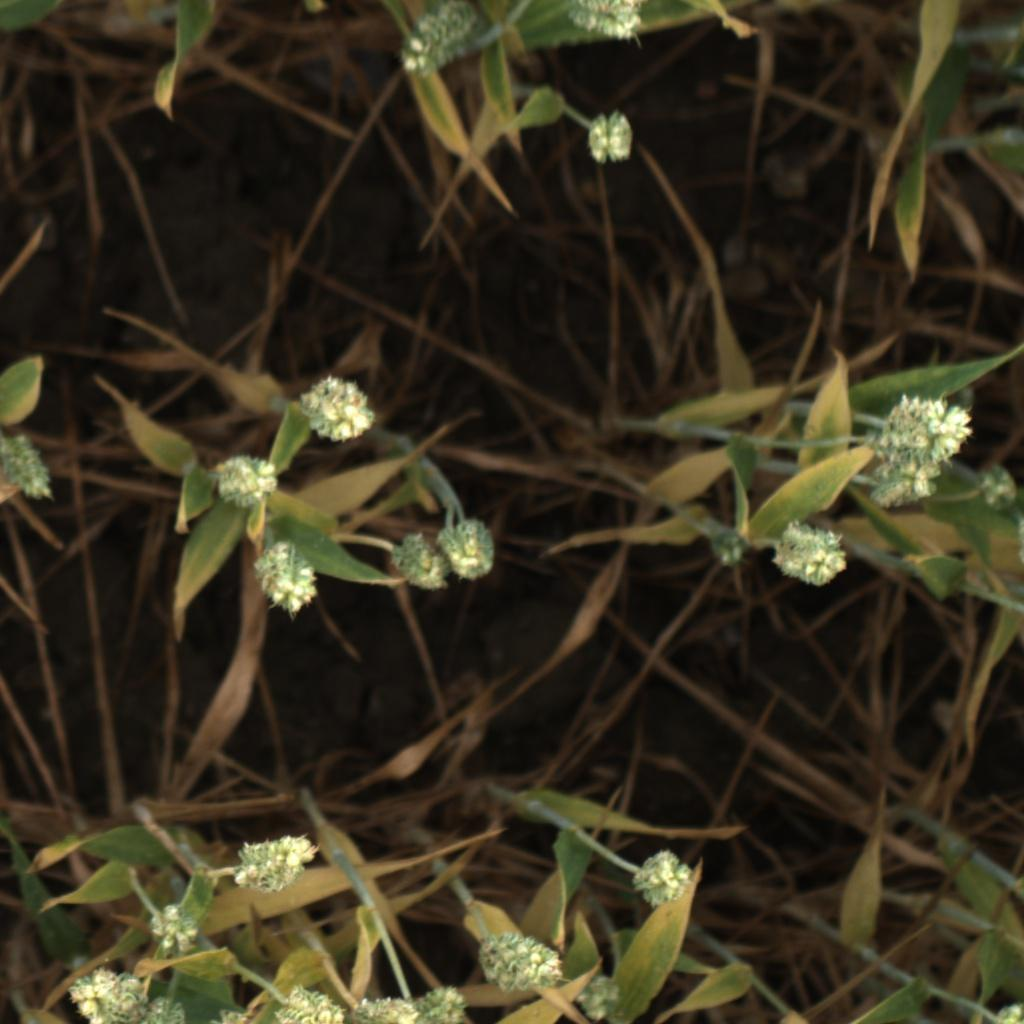0-0: (226, 826, 326, 901), (874, 393, 979, 457), (387, 5, 481, 75), (473, 927, 566, 997), (246, 538, 321, 620), (300, 374, 381, 447), (769, 519, 853, 589), (866, 450, 948, 512), (627, 845, 699, 912), (65, 968, 147, 1024), (207, 452, 287, 509), (385, 527, 454, 592), (575, 105, 645, 168), (0, 435, 60, 508), (443, 518, 512, 579), (566, 0, 643, 49), (143, 902, 207, 960), (274, 983, 359, 1024), (968, 453, 1023, 514), (572, 969, 625, 1024), (411, 980, 472, 1024), (355, 993, 425, 1024), (138, 994, 194, 1024), (207, 1006, 267, 1024)
